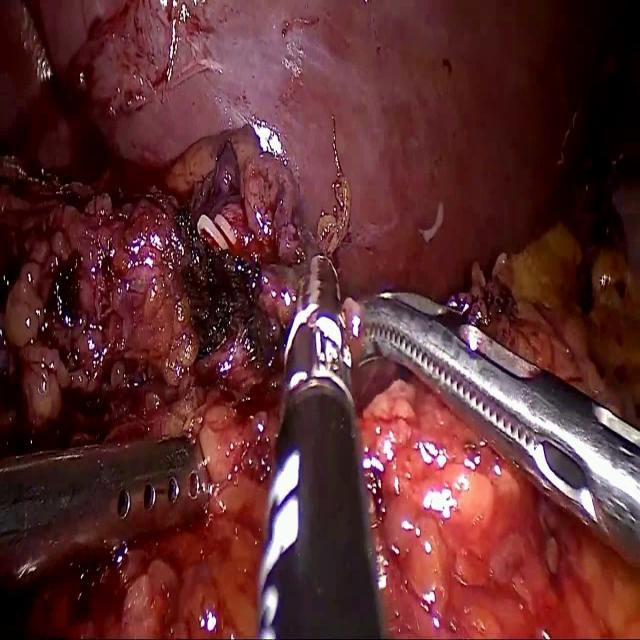surgical-tool: (344, 288, 640, 569), (256, 254, 382, 639), (0, 431, 209, 599), (418, 290, 640, 432)
